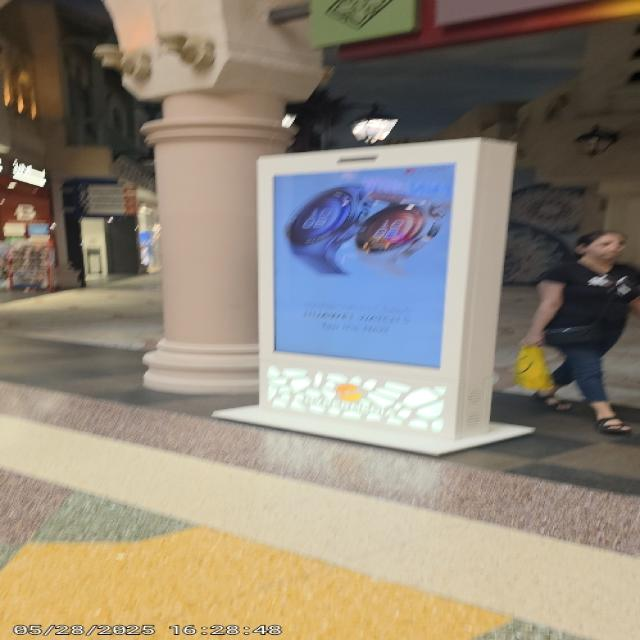mupi: (249, 143, 477, 433)
